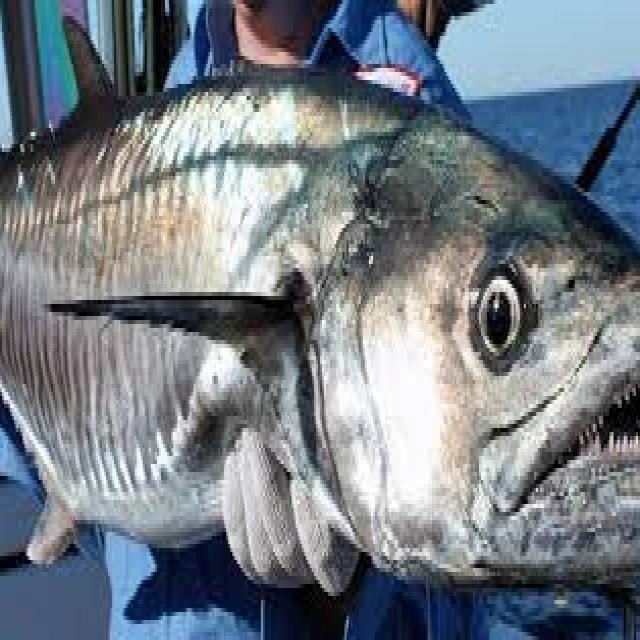King Mackerel: (2, 12, 640, 604)
